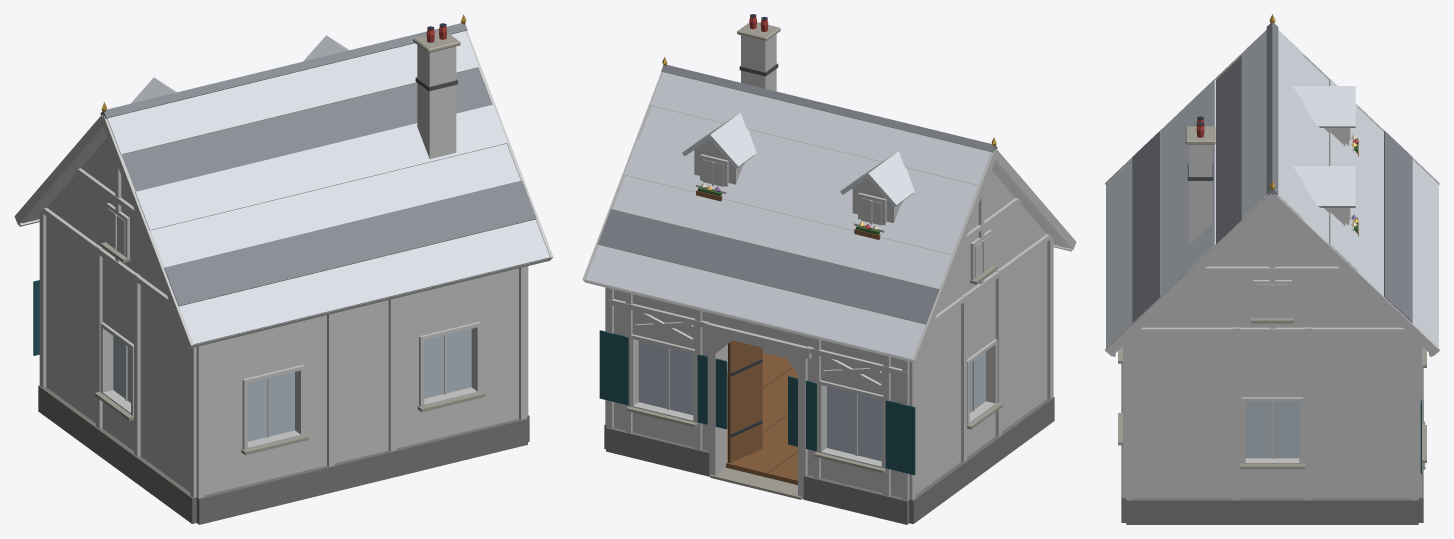
Rendered from ShopHall.obj.
The picture shows the model from 3 angles, left to right: view 1: azimuth 30°, elevation 25°; view 2: azimuth 150°, elevation 25°; view 3: azimuth 270°, elevation 25°; orthographic projection. The views are drawn at different scales.
Bounding box in the file's own units: 17.78 × 18.62 × 14.9.
